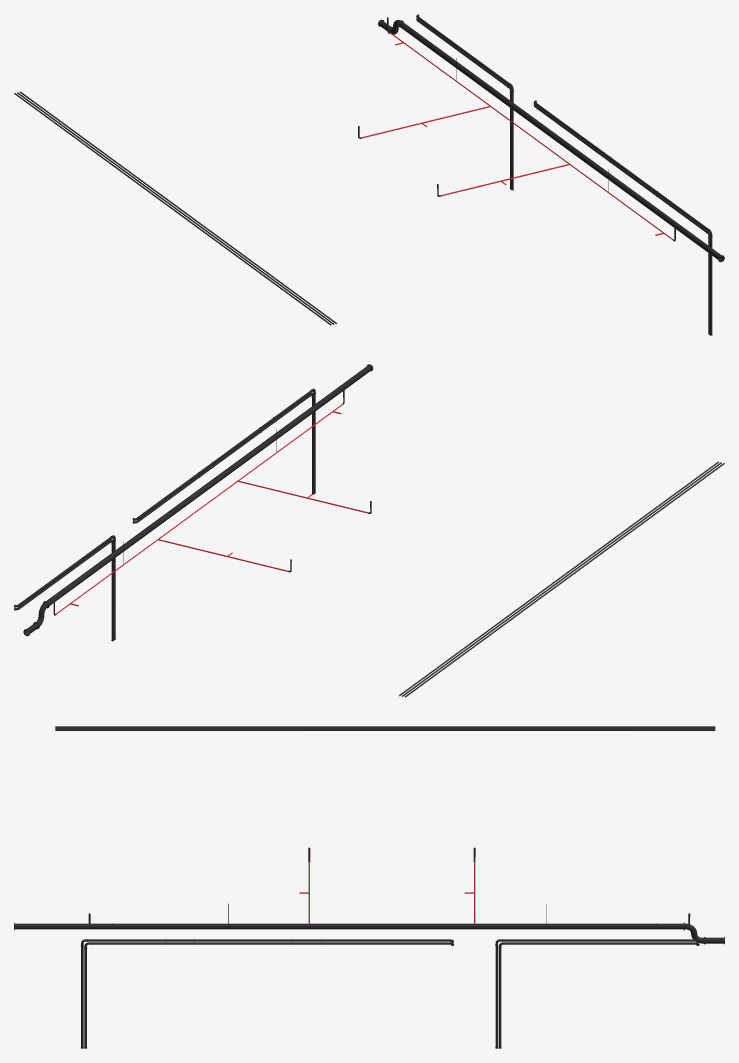
Rendered from SM_H_Building_Tide_Waterway_04c_ATLAS.fbx.
3 renders of one model, top to bottom at view 1: azimuth 30°, elevation 25°; view 2: azimuth 150°, elevation 25°; view 3: azimuth 270°, elevation 25°, orthographic. The views are drawn at different scales.
Visible parts, largest first — view 1: SM_H_Building_Tide_Waterway_04c_ATLAS; view 2: SM_H_Building_Tide_Waterway_04c_ATLAS; view 3: SM_H_Building_Tide_Waterway_04c_ATLAS.
Boxes of the visible parts, x1=… form: SM_H_Building_Tide_Waterway_04c_ATLAS: x1=14, y1=14, x2=724, y2=335; SM_H_Building_Tide_Waterway_04c_ATLAS: x1=14, y1=364, x2=724, y2=697; SM_H_Building_Tide_Waterway_04c_ATLAS: x1=14, y1=726, x2=724, y2=1048.
Bounding box in the file's own units: 1923 × 2860 × 568.
